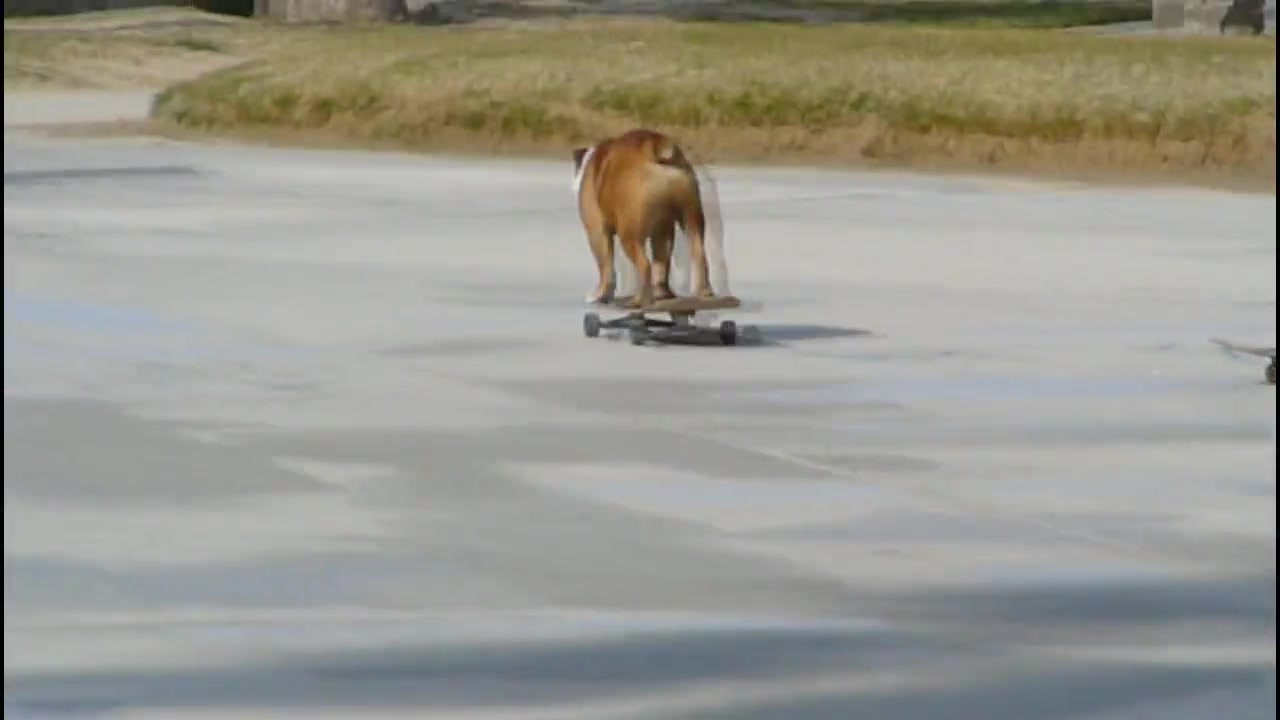dog: (564, 135, 712, 305)
